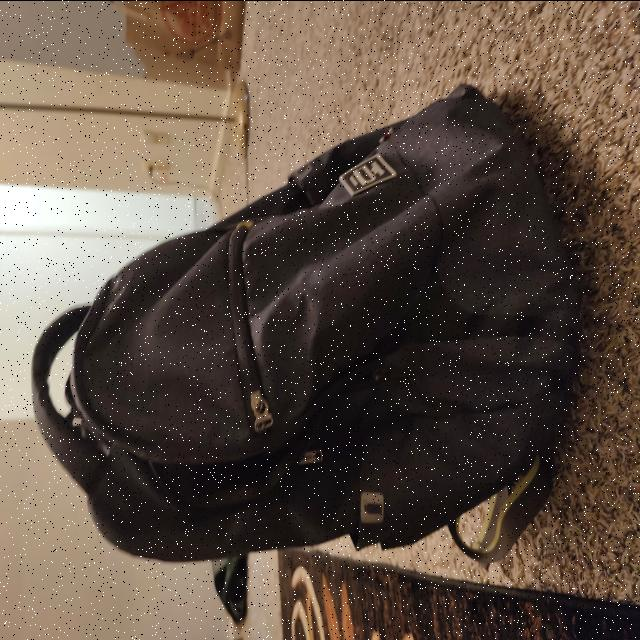bag: (32, 80, 556, 574)
